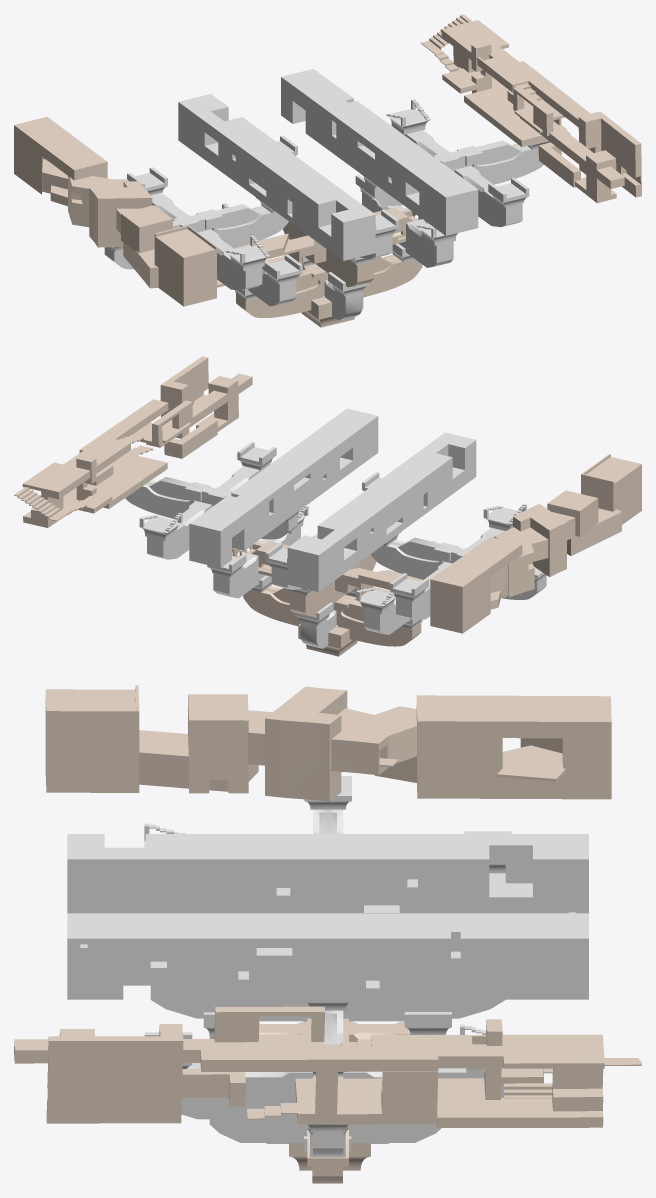
File: dougong.glb
The picture shows the model from 3 angles, top to bottom: view 1: azimuth 30°, elevation 25°; view 2: azimuth 150°, elevation 25°; view 3: azimuth 270°, elevation 25°; orthographic projection. The views are drawn at different scales.
Parts seen in each view (by area): view 1: 06-_Wood_Veneer_02_2, 06-Wood_Veneer_02, 04-Wood_Veneer_02, 05-Wood_Veneer_02, 02-Wood_Veneer_02, 01 -_Wood_Veneer_02_2, 03-_Wood_Veneer_02_2, 01 -Wood_Veneer_02, 02-_Wood_Veneer_02_2; view 2: 06-_Wood_Veneer_02_2, 06-Wood_Veneer_02, 04-Wood_Veneer_02, 05-Wood_Veneer_02, 02-Wood_Veneer_02, 01 -_Wood_Veneer_02_2, 03-_Wood_Veneer_02_2, 01 -Wood_Veneer_02, 02-_Wood_Veneer_02_2; view 3: 06-_Wood_Veneer_02_2, 06-Wood_Veneer_02, 04-Wood_Veneer_02, 02-Wood_Veneer_02, 05-Wood_Veneer_02, 01 -_Wood_Veneer_02_2, 02-_Wood_Veneer_02_2, 03-_Wood_Veneer_02_2.
Boxes of the visible parts, <box> form: 06-_Wood_Veneer_02_2: <box>14,14,641,306</box>; 06-Wood_Veneer_02: <box>178,69,478,260</box>; 04-Wood_Veneer_02: <box>127,99,529,290</box>; 05-Wood_Veneer_02: <box>104,140,550,269</box>; 02-Wood_Veneer_02: <box>222,175,457,306</box>; 01 -_Wood_Veneer_02_2: <box>236,254,422,327</box>; 03-_Wood_Veneer_02_2: <box>217,207,427,287</box>; 01 -Wood_Veneer_02: <box>235,243,414,320</box>; 02-_Wood_Veneer_02_2: <box>283,221,373,287</box>; 06-_Wood_Veneer_02_2: <box>14,356,641,633</box>; 06-Wood_Veneer_02: <box>189,408,476,591</box>; 04-Wood_Veneer_02: <box>139,441,526,620</box>; 05-Wood_Veneer_02: <box>125,477,546,599</box>; 02-Wood_Veneer_02: <box>207,506,435,634</box>; 01 -_Wood_Veneer_02_2: <box>243,586,421,656</box>; 03-_Wood_Veneer_02_2: <box>232,541,422,596</box>; 01 -Wood_Veneer_02: <box>250,575,422,648</box>; 02-_Wood_Veneer_02_2: <box>289,554,376,616</box>; 06-_Wood_Veneer_02_2: <box>14,685,641,1127</box>; 06-Wood_Veneer_02: <box>67,834,588,999</box>; 04-Wood_Veneer_02: <box>144,823,511,1119</box>; 02-Wood_Veneer_02: <box>203,1012,451,1142</box>; 05-Wood_Veneer_02: <box>304,776,351,1155</box>; 01 -_Wood_Veneer_02_2: <box>289,1143,370,1183</box>; 02-_Wood_Veneer_02_2: <box>209,1021,410,1041</box>; 03-_Wood_Veneer_02_2: <box>307,1018,348,1166</box>.
Size of the model in its own units: 2.17 by 0.8038 by 1.56.
